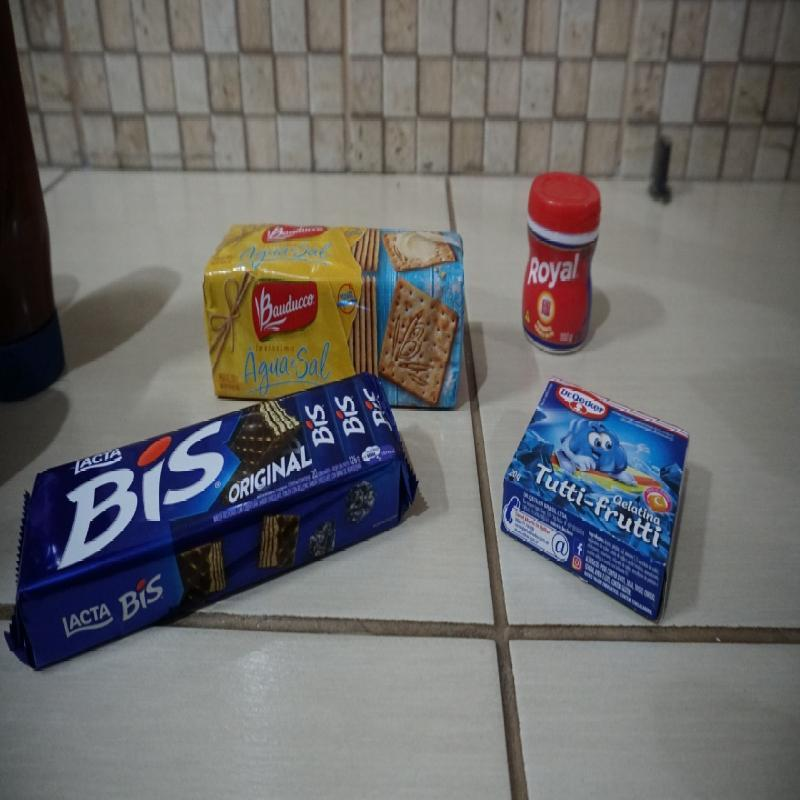Cracker: (203, 220, 466, 411)
Gelatine: (501, 374, 691, 626)
Ketchup: (0, 0, 67, 407)
Yeast: (520, 170, 603, 356)
